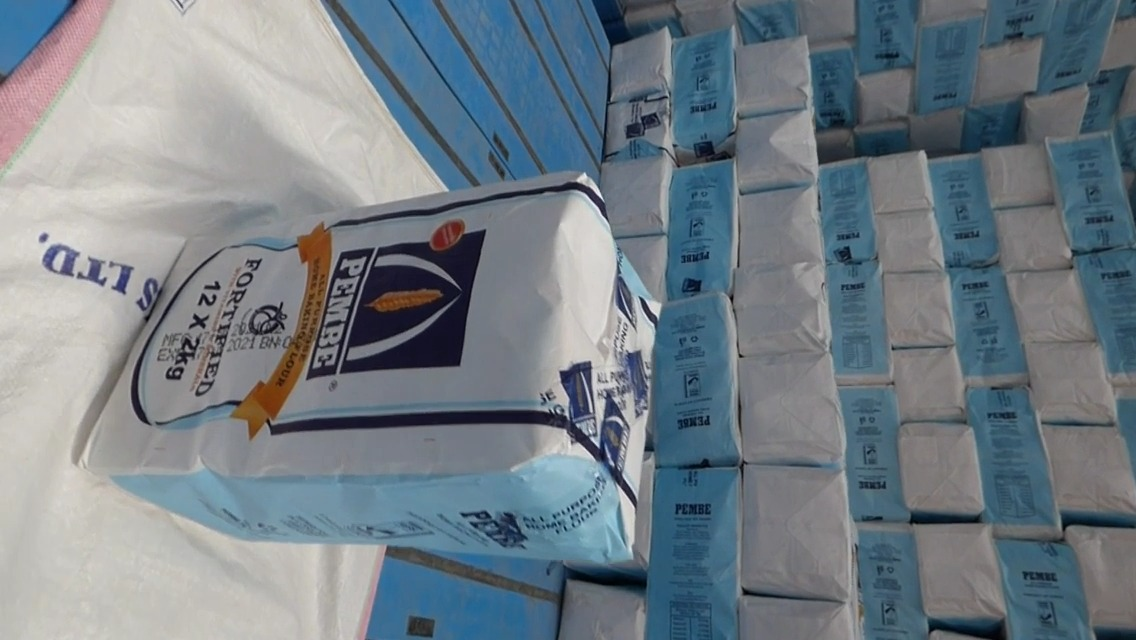wheat_flour_blue_label: (80, 183, 656, 560)
